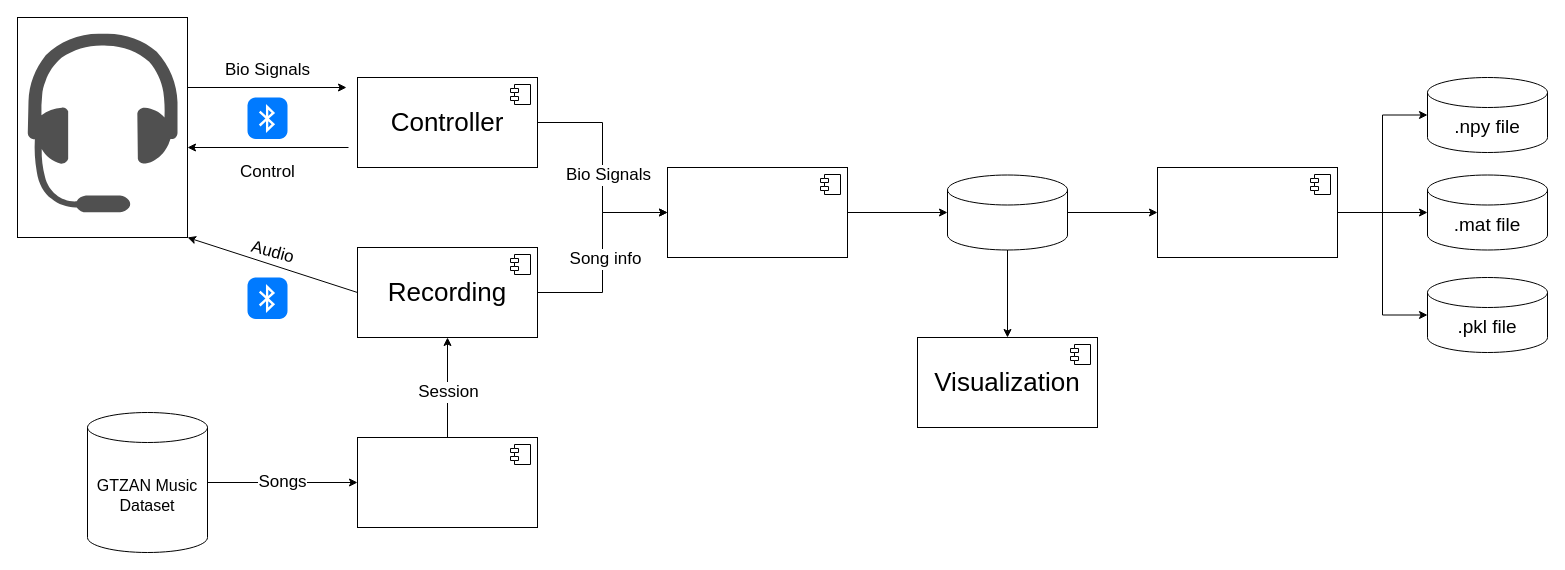
The diagram is 1565 pixels wide and 570 high, and some of its shapes have lost their labels. The centre of each missing label's shape, as x and y in pixels:
". xdf file" belongs at (x=1007, y=212).
"LSL Recorder" belongs at (x=757, y=212).
"Segmentation" belongs at (x=1247, y=212).
"Session Generation" belongs at (x=447, y=482).
